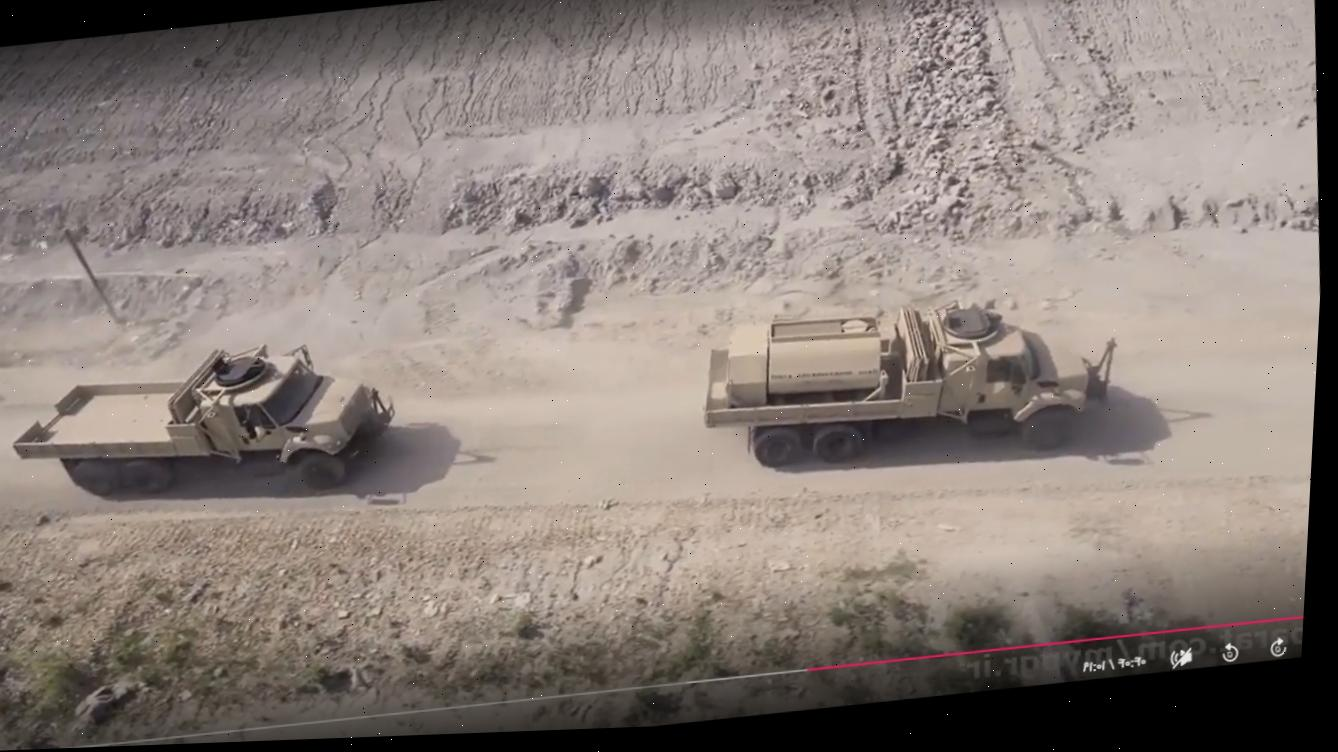truck: (690, 277, 1116, 485), (1, 327, 406, 528)
